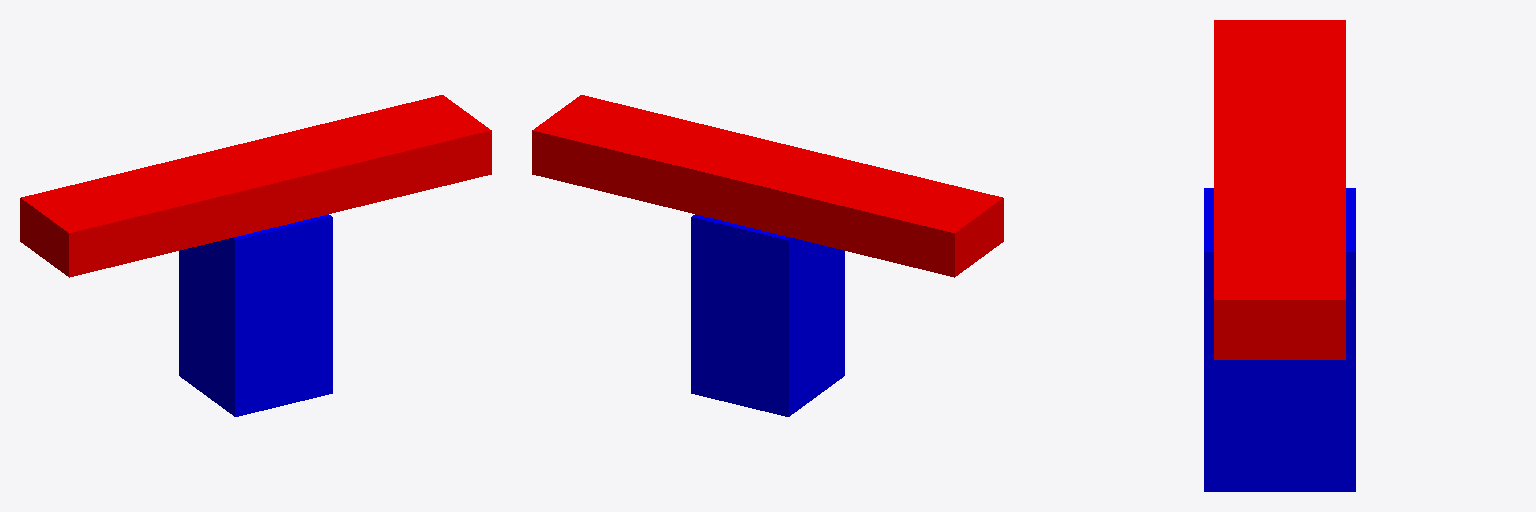
The robot description file, URDF, robot "bolt.urdf":
<?xml version="0.0" ?>
<robot name="bolt.urdf">
  <link name="base">
    <visual>
      <origin rpy="0 0 0" xyz="0 0 0.04"/>
      <geometry>
        <box size=".046 .046 0.08"/>
      </geometry>
      <material name="blue">
      </material>
    </visual>
    <collision>
      <origin rpy="0 0 0" xyz="0 0 0.04"/>
      <geometry>
        <box size=".046 .046 0.08"/>
      </geometry>
    </collision>
  </link>
  <joint name="joint1" type="revolute">
    <origin rpy="0 0 0" xyz="0 0 0.08"/>
    <parent link="base"/>
    <child link="top"/>
    <axis xyz="0 0 1"/>
    <limit effort="10" lower="-3.1415" upper="3.1415" velocity="2.1750"/>
  </joint>
  <link name="top">
    <visual>
      <origin rpy="0 0 0" xyz="0 0 0.01"/>
      <geometry>
        <box size=".20 .04 0.02"/>
      </geometry>
      <material name="red">
      </material>
    </visual>
    <collision>
      <origin rpy="0 0 0" xyz="0 0 0.01"/>
      <geometry>
        <box size=".20 .04 0.02"/>
      </geometry>
    </collision>
  </link>

  <material name="panda_white">
    <color rgba="1. 1. 1. 1."/>
  </material>
  <material name="red">
    <color rgba="1.0 0. 0. 1.0"/>
  </material>
  <material name="blue">
    <color rgba="0. 0. 1. 1.0"/>
  </material>
  <material name="green">
    <color rgba="0. 1. 0. 1.0"/>
  </material>

</robot>

--- What the picture shows (computed from the rendered views, not written in the file) ---
Views: 3 orthographic renders of the robot side by side, from view 1: azimuth 30°, elevation 25°; view 2: azimuth 150°, elevation 25°; view 3: azimuth 270°, elevation 25°.
Model bolt.urdf with 2 links and 1 joints (1 revolute), rooted at base, posed every joint at zero.
Visible links, largest first — view 1: top, base; view 2: top, base; view 3: top, base.
Link boxes in pixels (x1,y1,x2,y2): top: (20, 95, 491, 277); base: (179, 214, 332, 416); top: (532, 95, 1003, 277); base: (691, 214, 844, 416); top: (1214, 20, 1345, 359); base: (1204, 188, 1355, 491).
Bounding box of the posed robot: 0.2 × 0.046 × 0.1 m (x, y, z).
Geometry: primitives only (box / cylinder / sphere), no mesh files.